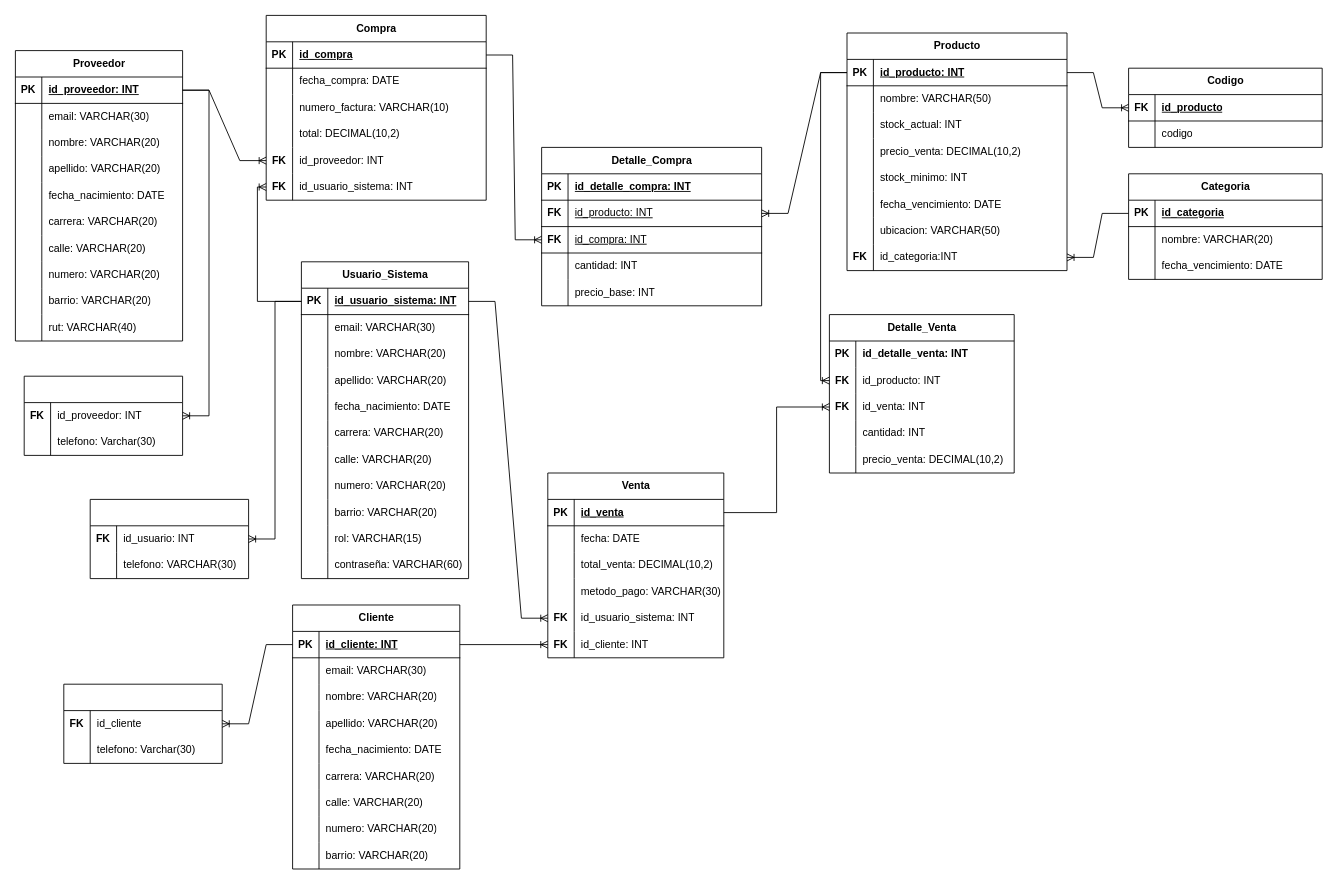
This 1338x884 diagram has some shape labels left out. The shapes that lost their labels are listed below. From the top down, each one's box as (x1, y1, x2, y2) in pixels, then its label:
(23, 375, 183, 455): Telefono_Proveedor
(89, 499, 249, 579): Telefono_Usuario
(63, 683, 222, 763): Telefono_Cliente
